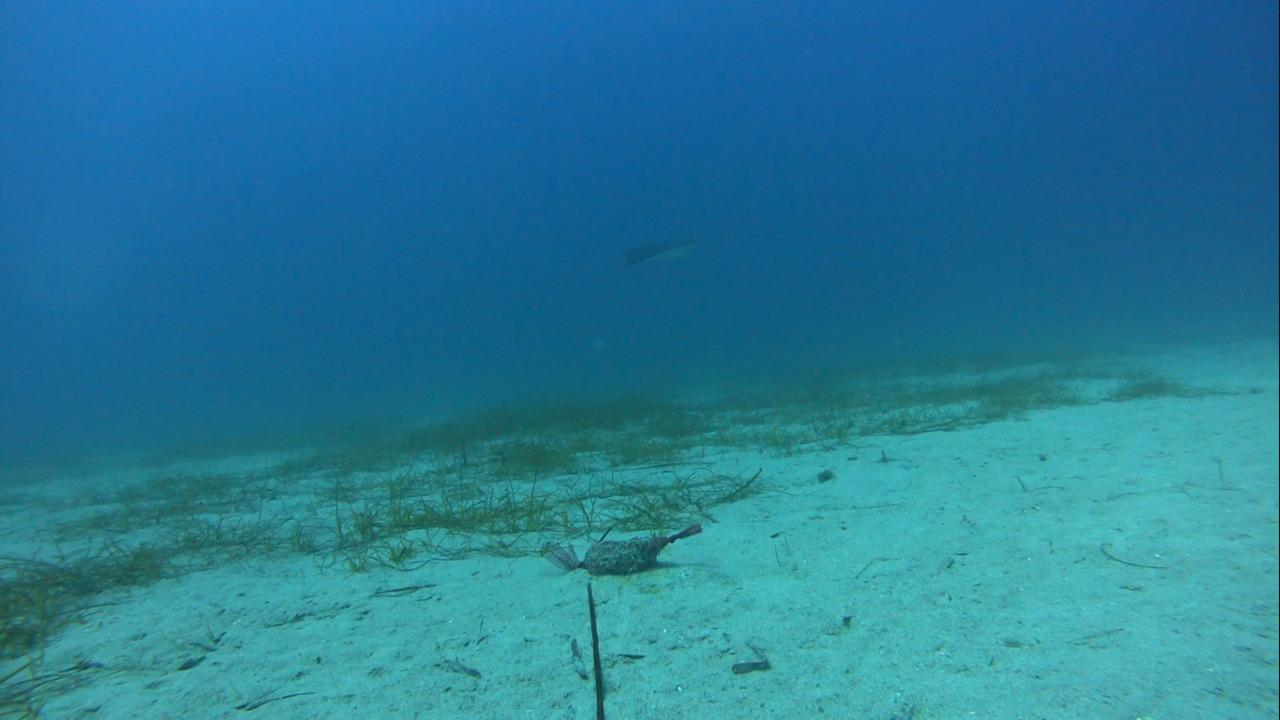myliobatis: (616, 214, 809, 277)
